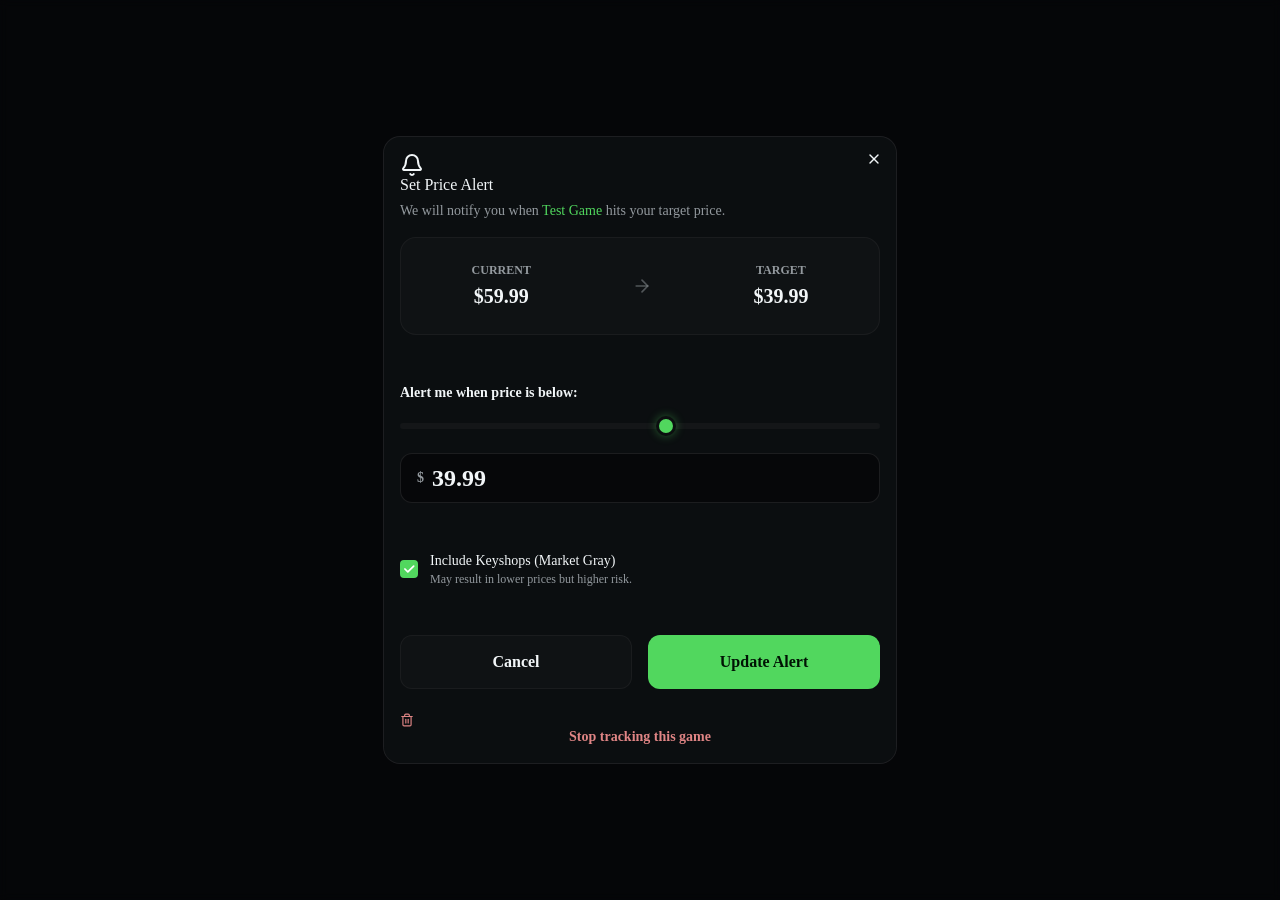
Test: PriceAlertModal › disables buttons and shows "Saving…" when isSaving is true
Click the button "Update Alert" at (764, 662), box [648, 635, 880, 689]
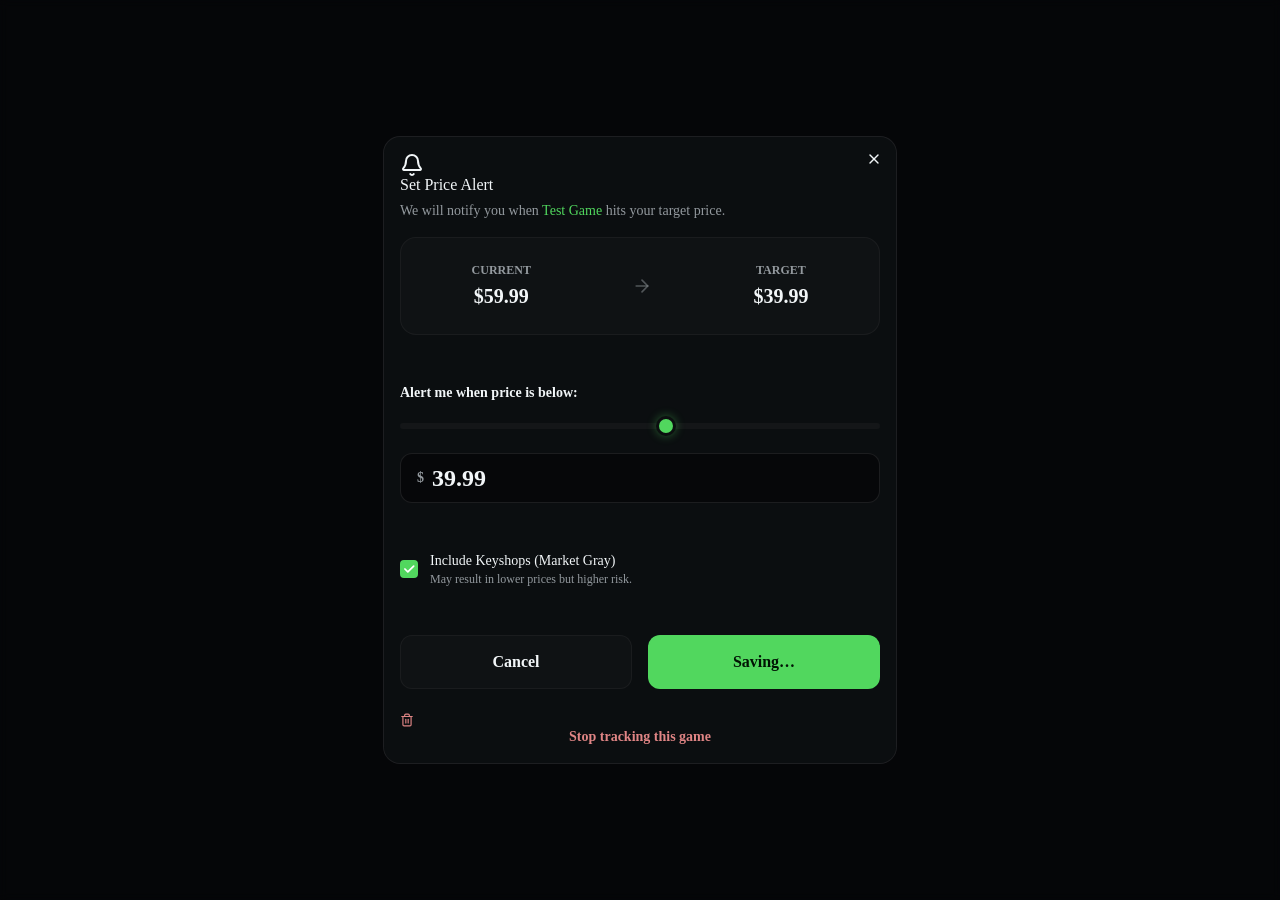
expect the button "Cancel" is disabled: met, box [400, 635, 632, 689]
expect the button "Saving…" is shown: met, box [648, 635, 880, 689]
